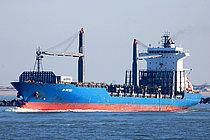Ship: (10, 25, 205, 114)
